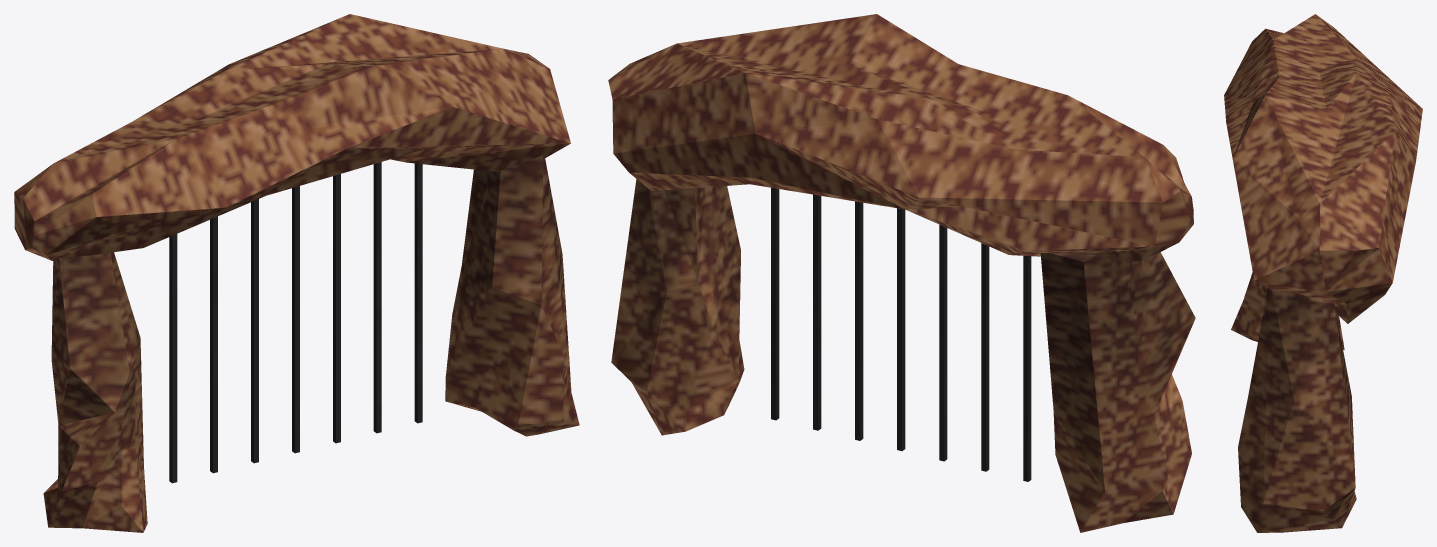
The model's file is BarricadeArcher.fbx.
3 views of the same model, side by side, from view 1: azimuth 30°, elevation 25°; view 2: azimuth 150°, elevation 25°; view 3: azimuth 270°, elevation 25° (orthographic). The views are drawn at different scales.
Visible parts, largest first — view 1: BarricadeArcherRocks, BarricadeArcherBars; view 2: BarricadeArcherRocks, BarricadeArcherBars; view 3: BarricadeArcherRocks.
Boxes of the visible parts, left/top/right/bottom form: BarricadeArcherRocks: left=14, top=14, right=579, bottom=532; BarricadeArcherBars: left=169, top=162, right=422, bottom=483; BarricadeArcherRocks: left=608, top=14, right=1195, bottom=532; BarricadeArcherBars: left=771, top=187, right=1031, bottom=481; BarricadeArcherRocks: left=1224, top=14, right=1422, bottom=532.
Bounding box in the file's own units: 2.27 × 1.69 × 0.8392.
